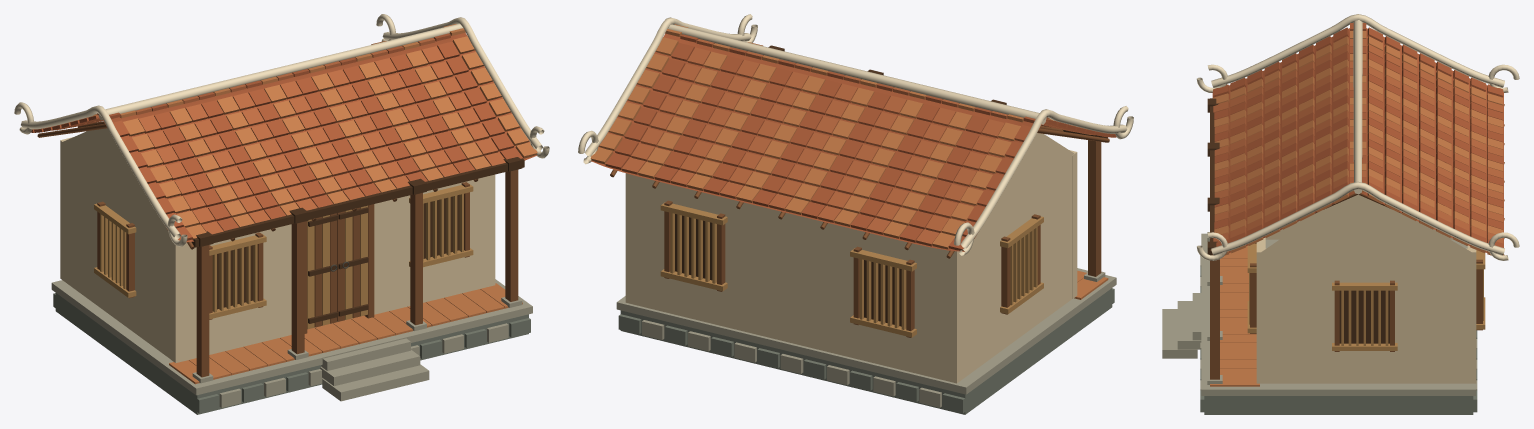
Rendered from LV_NHA_DAN_B.glb.
3 views of the same model, side by side, from view 1: azimuth 30°, elevation 25°; view 2: azimuth 150°, elevation 25°; view 3: azimuth 270°, elevation 25° (orthographic). The views are drawn at different scales.
Visible parts, largest first — view 1: LV_NHA_DAN_B-surface-dec8a1, LV_NHA_DAN_B-surface-c57b49, LV_NHA_DAN_B-surface-af5e39, LV_NHA_DAN_B-surface-bb6a40, LV_NHA_DAN_B-surface-a8a28c, LV_NHA_DAN_B-surface-825331, LV_NHA_DAN_B-surface-b68850, LV_NHA_DAN_B-surface-ead9b8, LV_NHA_DAN_B-surface-797e70, LV_NHA_DAN_B-surface-50351f, door-hinge-1-surface-825331, door-hinge--1-surface-825331 (+4 smaller); view 2: LV_NHA_DAN_B-surface-dec8a1, LV_NHA_DAN_B-surface-af5e39, LV_NHA_DAN_B-surface-c57b49, LV_NHA_DAN_B-surface-bb6a40, LV_NHA_DAN_B-surface-b68850, LV_NHA_DAN_B-surface-a8a28c, LV_NHA_DAN_B-surface-ead9b8, LV_NHA_DAN_B-surface-797e70, LV_NHA_DAN_B-surface-825331, LV_NHA_DAN_B-surface-50351f; view 3: LV_NHA_DAN_B-surface-dec8a1, LV_NHA_DAN_B-surface-af5e39, LV_NHA_DAN_B-surface-c57b49, LV_NHA_DAN_B-surface-bb6a40, LV_NHA_DAN_B-surface-ead9b8, LV_NHA_DAN_B-surface-a8a28c, LV_NHA_DAN_B-surface-797e70, LV_NHA_DAN_B-surface-50351f, LV_NHA_DAN_B-surface-b68850, LV_NHA_DAN_B-surface-825331.
Boxes of the visible parts, bbox=[...] form: LV_NHA_DAN_B-surface-dec8a1: bbox=[60, 128, 495, 362]; LV_NHA_DAN_B-surface-c57b49: bbox=[52, 24, 537, 384]; LV_NHA_DAN_B-surface-af5e39: bbox=[31, 32, 536, 242]; LV_NHA_DAN_B-surface-bb6a40: bbox=[64, 38, 505, 234]; LV_NHA_DAN_B-surface-a8a28c: bbox=[51, 279, 532, 407]; LV_NHA_DAN_B-surface-825331: bbox=[37, 121, 518, 377]; LV_NHA_DAN_B-surface-b68850: bbox=[94, 183, 473, 319]; LV_NHA_DAN_B-surface-ead9b8: bbox=[14, 14, 549, 246]; LV_NHA_DAN_B-surface-797e70: bbox=[53, 293, 530, 414]; LV_NHA_DAN_B-surface-50351f: bbox=[191, 157, 524, 309]; door-hinge-1-surface-825331: bbox=[337, 207, 360, 321]; door-hinge--1-surface-825331: bbox=[314, 213, 337, 327]; LV_NHA_DAN_B-surface-dec8a1: bbox=[625, 133, 1077, 383]; LV_NHA_DAN_B-surface-af5e39: bbox=[588, 33, 1116, 251]; LV_NHA_DAN_B-surface-c57b49: bbox=[590, 24, 1108, 299]; LV_NHA_DAN_B-surface-bb6a40: bbox=[621, 39, 1082, 246]; LV_NHA_DAN_B-surface-b68850: bbox=[660, 202, 1043, 337]; LV_NHA_DAN_B-surface-a8a28c: bbox=[616, 268, 1116, 407]; LV_NHA_DAN_B-surface-ead9b8: bbox=[578, 14, 1133, 255]; LV_NHA_DAN_B-surface-797e70: bbox=[618, 288, 1114, 414]; LV_NHA_DAN_B-surface-825331: bbox=[610, 125, 1109, 337]; LV_NHA_DAN_B-surface-50351f: bbox=[675, 45, 1107, 326]; LV_NHA_DAN_B-surface-dec8a1: bbox=[1256, 194, 1476, 383]; LV_NHA_DAN_B-surface-af5e39: bbox=[1212, 22, 1503, 255]; LV_NHA_DAN_B-surface-c57b49: bbox=[1210, 31, 1503, 386]; LV_NHA_DAN_B-surface-bb6a40: bbox=[1213, 39, 1503, 243]; LV_NHA_DAN_B-surface-ead9b8: bbox=[1196, 14, 1519, 260]; LV_NHA_DAN_B-surface-a8a28c: bbox=[1162, 232, 1477, 395]; LV_NHA_DAN_B-surface-797e70: bbox=[1200, 256, 1477, 414]; LV_NHA_DAN_B-surface-50351f: bbox=[1207, 98, 1389, 343]; LV_NHA_DAN_B-surface-b68850: bbox=[1247, 243, 1485, 350]; LV_NHA_DAN_B-surface-825331: bbox=[1210, 104, 1504, 379].
Size of the model in its own units: 7.29 by 4.76 by 6.44.
